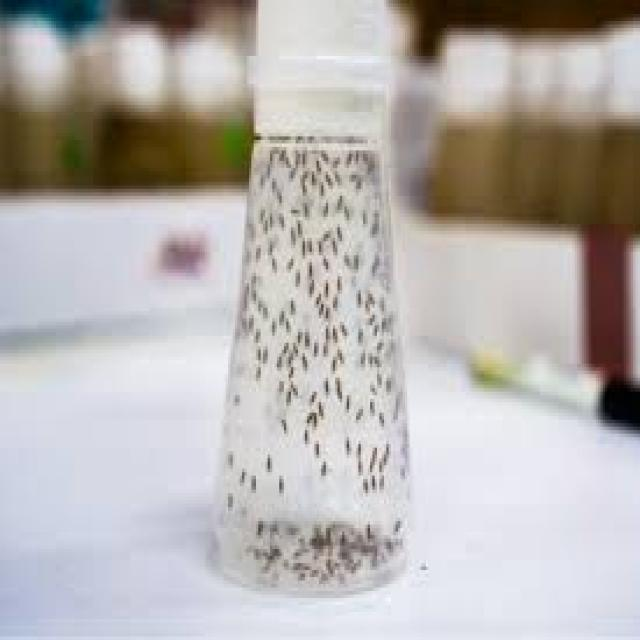fruit fly: (284, 192, 302, 220), (314, 192, 331, 220), (316, 161, 333, 189), (293, 157, 312, 182), (349, 398, 365, 426), (281, 157, 298, 182), (372, 402, 387, 430), (340, 143, 356, 168), (221, 444, 235, 472), (244, 465, 258, 493), (349, 451, 363, 479), (249, 356, 263, 384), (280, 381, 294, 409), (352, 318, 366, 346), (330, 266, 344, 294), (256, 210, 270, 238), (260, 203, 274, 231), (338, 196, 352, 224), (351, 430, 363, 462), (349, 168, 365, 192), (298, 322, 312, 349), (316, 220, 333, 242), (344, 164, 361, 186), (331, 185, 342, 217), (356, 472, 370, 497), (302, 381, 316, 406), (270, 346, 284, 371), (282, 248, 296, 273), (340, 427, 351, 458), (277, 409, 289, 437), (363, 392, 377, 416), (307, 332, 319, 360), (288, 322, 302, 346), (363, 342, 375, 370), (265, 311, 277, 339), (349, 245, 361, 273), (356, 203, 370, 227), (265, 168, 277, 196), (298, 420, 309, 448), (340, 384, 351, 412), (354, 339, 365, 367), (284, 290, 295, 318), (303, 252, 314, 280), (319, 270, 330, 298), (284, 217, 295, 245), (298, 192, 309, 220), (305, 161, 316, 189), (221, 486, 233, 511), (365, 374, 377, 399), (277, 332, 289, 357), (335, 311, 347, 336), (370, 346, 382, 371), (351, 283, 363, 308), (319, 371, 330, 398), (284, 374, 298, 395), (235, 462, 247, 486), (272, 469, 284, 493), (272, 301, 284, 325), (279, 308, 291, 332), (316, 451, 326, 479), (258, 336, 268, 364), (319, 318, 330, 343), (326, 318, 337, 343), (289, 262, 300, 287), (261, 448, 272, 472), (310, 434, 321, 458), (326, 350, 337, 374), (331, 217, 342, 241), (265, 248, 277, 270), (296, 231, 307, 255), (303, 231, 314, 255), (272, 374, 284, 395), (251, 339, 261, 364), (333, 342, 344, 363), (254, 164, 263, 189), (382, 434, 391, 458), (319, 336, 328, 356), (368, 468, 374, 489)
